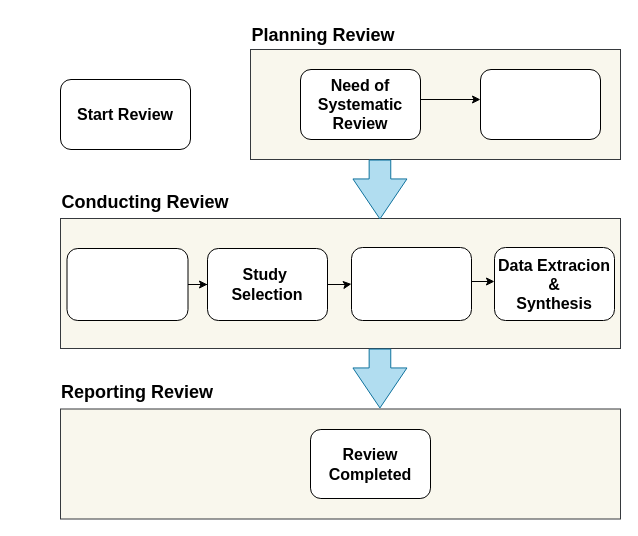
Some shapes in this 638 by 536 pixel diagram are drawn without their labels. Each missing label, with the box of its shape:
Identification of Research: (66, 248, 188, 320)
Review Protocol: (480, 68, 600, 140)
Study Quality Assesment: (350, 246, 472, 320)
